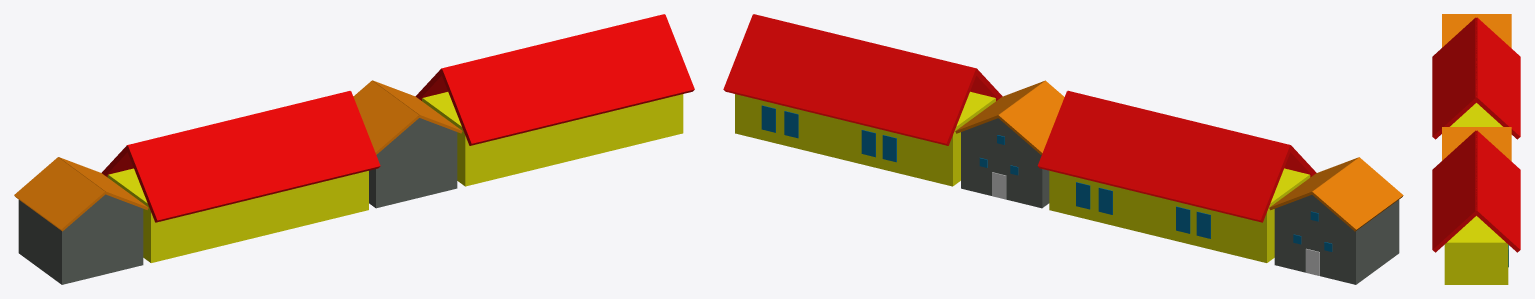
File: house.fbx
The picture shows the model from 3 angles, left to right: view 1: azimuth 30°, elevation 25°; view 2: azimuth 150°, elevation 25°; view 3: azimuth 270°, elevation 25°; orthographic projection. The views are drawn at different scales.
Parts seen in each view (by area): view 1: group4, group5, group6, group2; view 2: group4, group5, group6, group2; view 3: group4, group5, group2, group6.
Boxes of the visible parts, x1,y1,x2,y2 form: group4: [415, 14, 694, 186]; group5: [101, 91, 380, 262]; group6: [14, 157, 148, 284]; group2: [353, 80, 462, 208]; group4: [723, 14, 1002, 186]; group5: [1037, 90, 1316, 262]; group6: [1269, 157, 1403, 284]; group2: [955, 80, 1064, 208]; group4: [1432, 130, 1520, 284]; group5: [1432, 17, 1520, 139]; group2: [1442, 127, 1511, 161]; group6: [1442, 14, 1511, 47].
Bounding box in the file's own units: 44.94 × 7.01 × 7.41.
